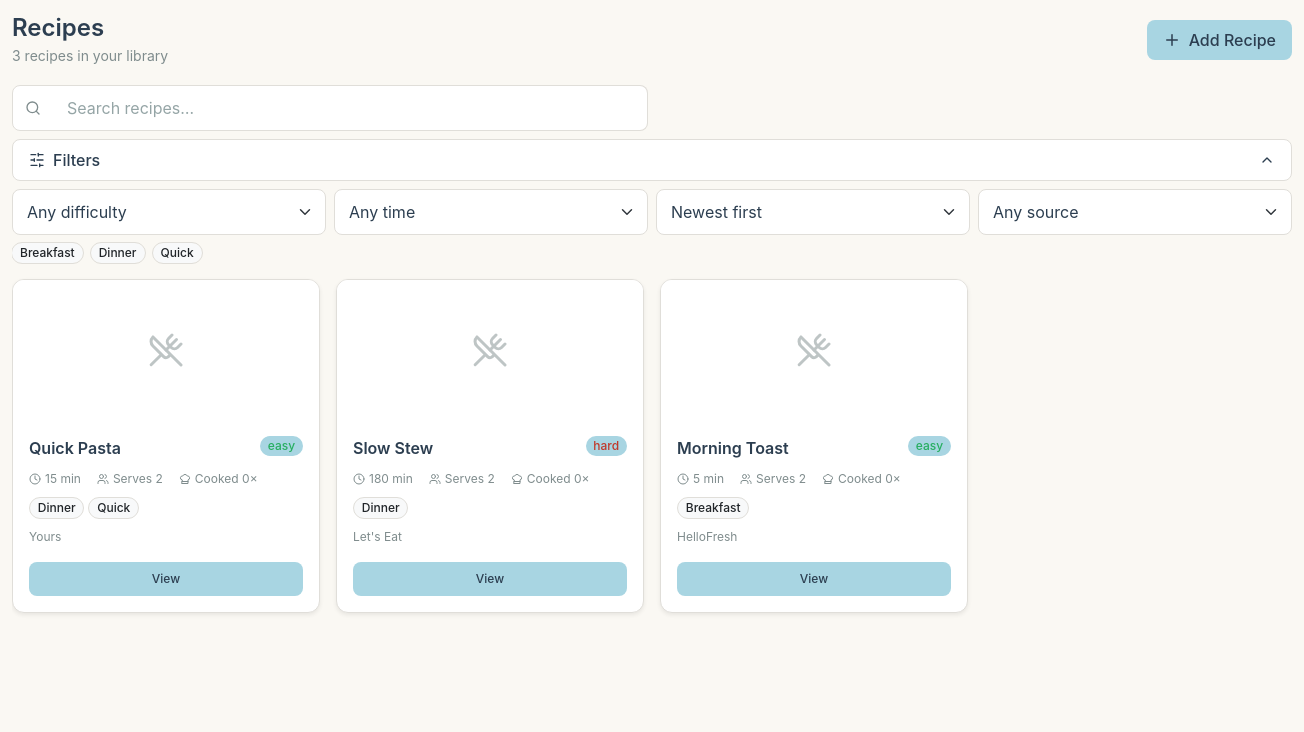
Scenario: RecipeList › filters › filters by where the recipe came from
The width and height of the screenshot is (1304, 732).
Select "Let's Eat" in the dropdown named "Filter by source" at x=1135, y=212, box [978,189,1292,235]
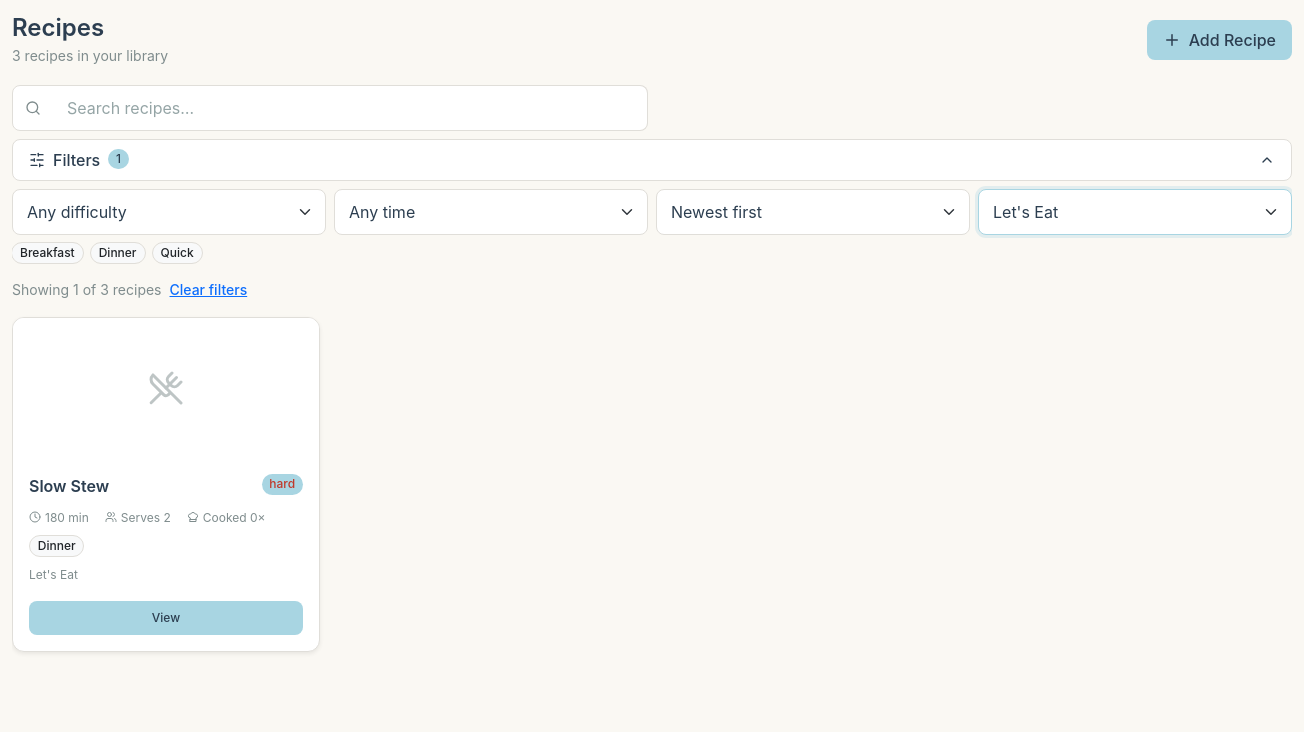
Expected: the text "Slow Stew" is shown, [29,474,109,500]
Now the text "Morning Toast" is gone
